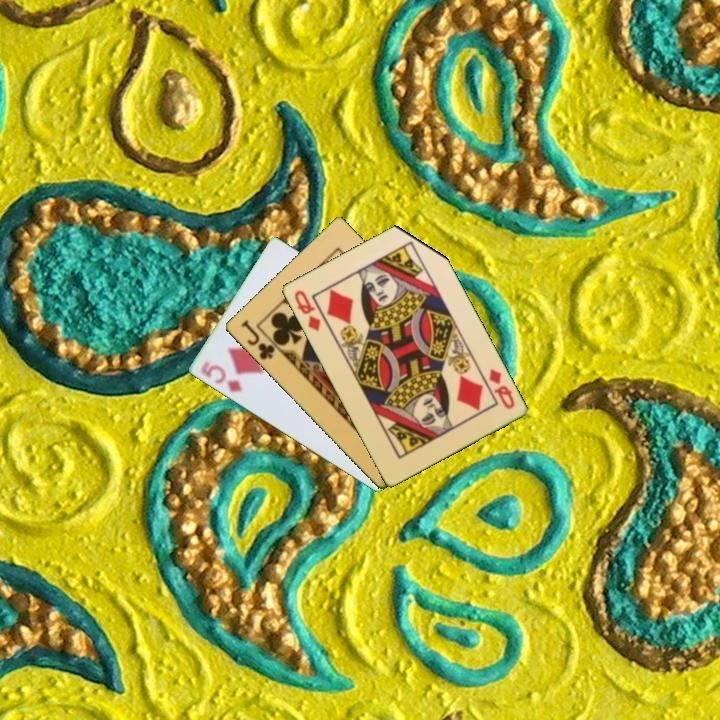5d: (196, 358, 245, 396)
Jc: (237, 316, 278, 363)
Qd: (290, 286, 323, 334), (485, 365, 517, 412)
